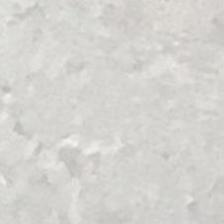Non_Crack: (35, 35, 206, 193)
